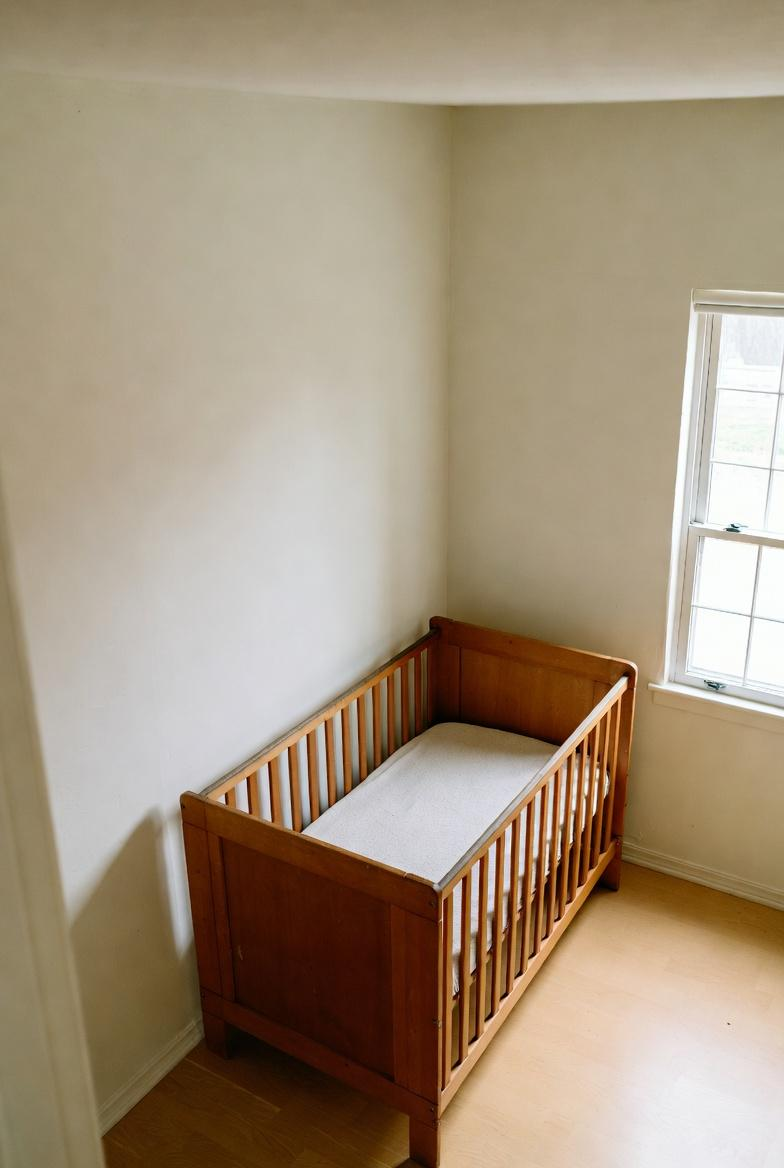crib: (152, 597, 647, 1168)
